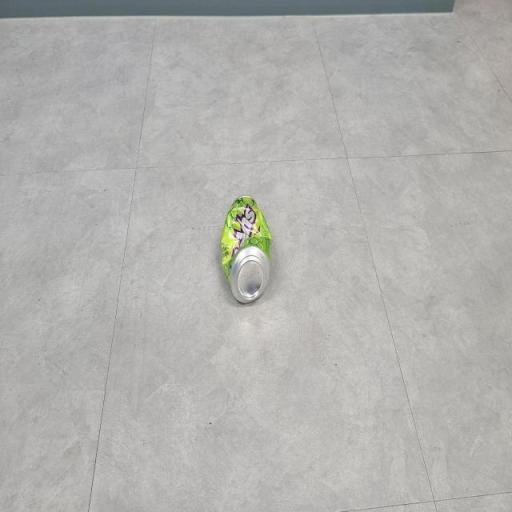metal: (213, 190, 290, 316)
